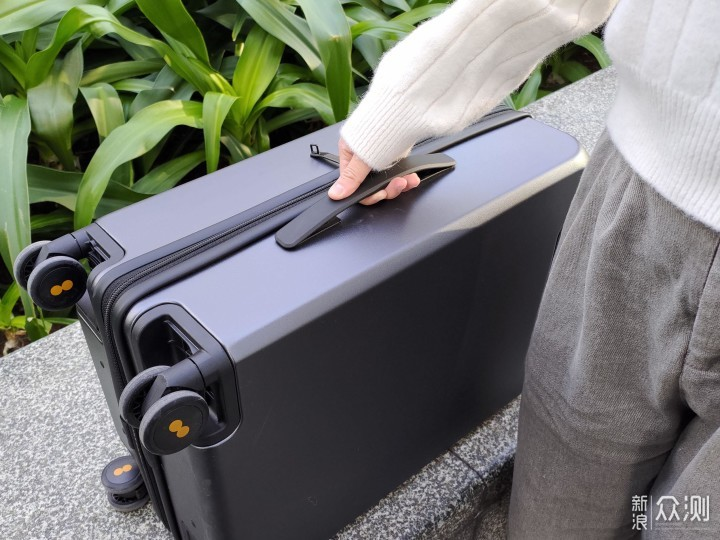box: (79, 103, 588, 540)
handle: (274, 152, 456, 251)
wheel: (118, 364, 211, 456), (13, 240, 89, 311), (101, 456, 150, 511)
